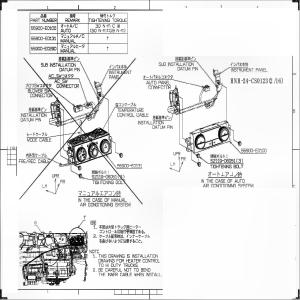PartNumber: (30, 45, 57, 52), (30, 25, 57, 31), (210, 158, 236, 164), (241, 147, 267, 153), (31, 35, 56, 41), (91, 174, 117, 179), (117, 163, 142, 168)
